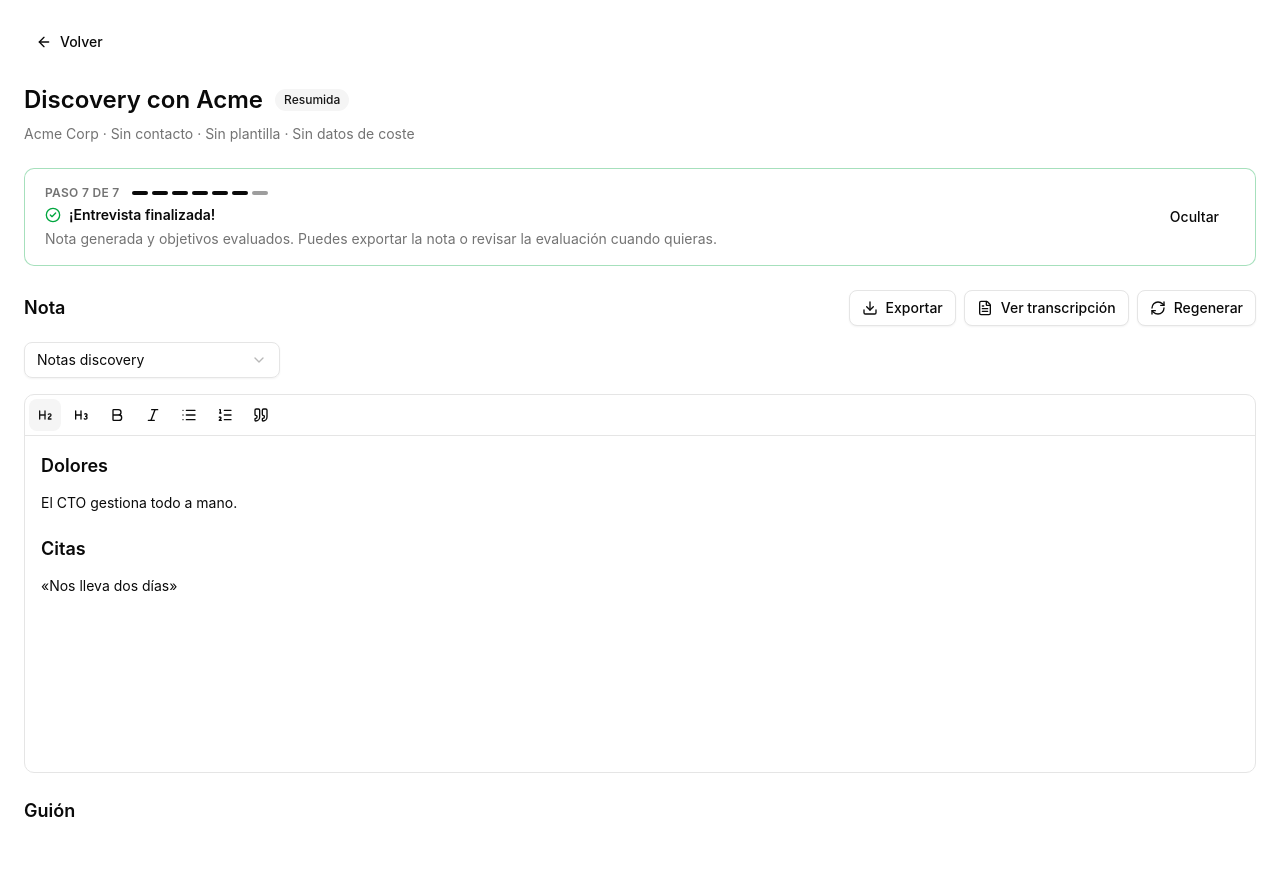
Test case: NoteSection › always-on editing (SPEC-029) › persists on Guardar, toasts "Nota guardada" and hides the bar keeping the editor mounted with the saved content
// Cambio real vía toolbar: el primer bloque (h2 Dolores) pasa a Encabezado 3
Click the button named "Encabezado 3".
click(81, 415)  # box [65,399,97,431]
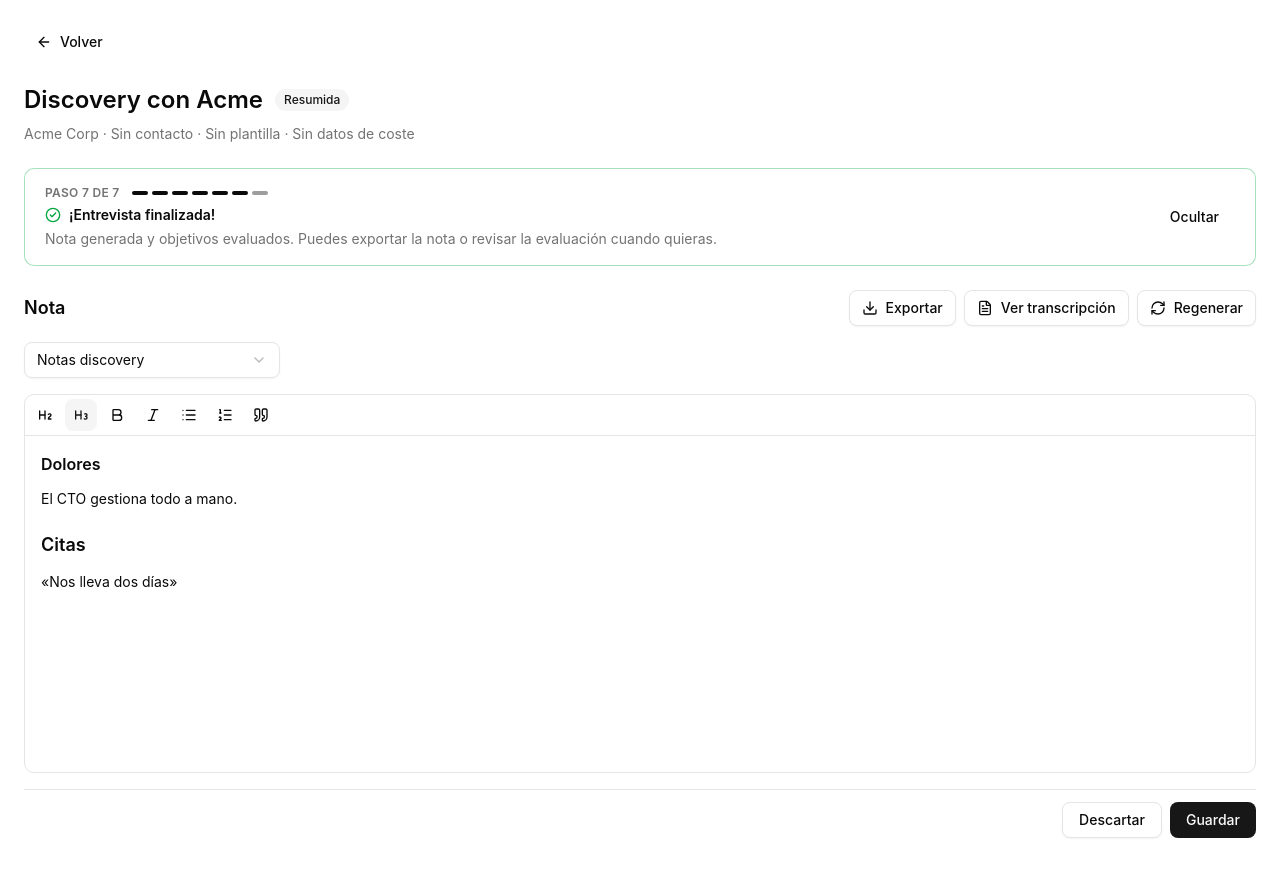
Click the button "Guardar".
click(1213, 820)  # box [1170,802,1256,838]
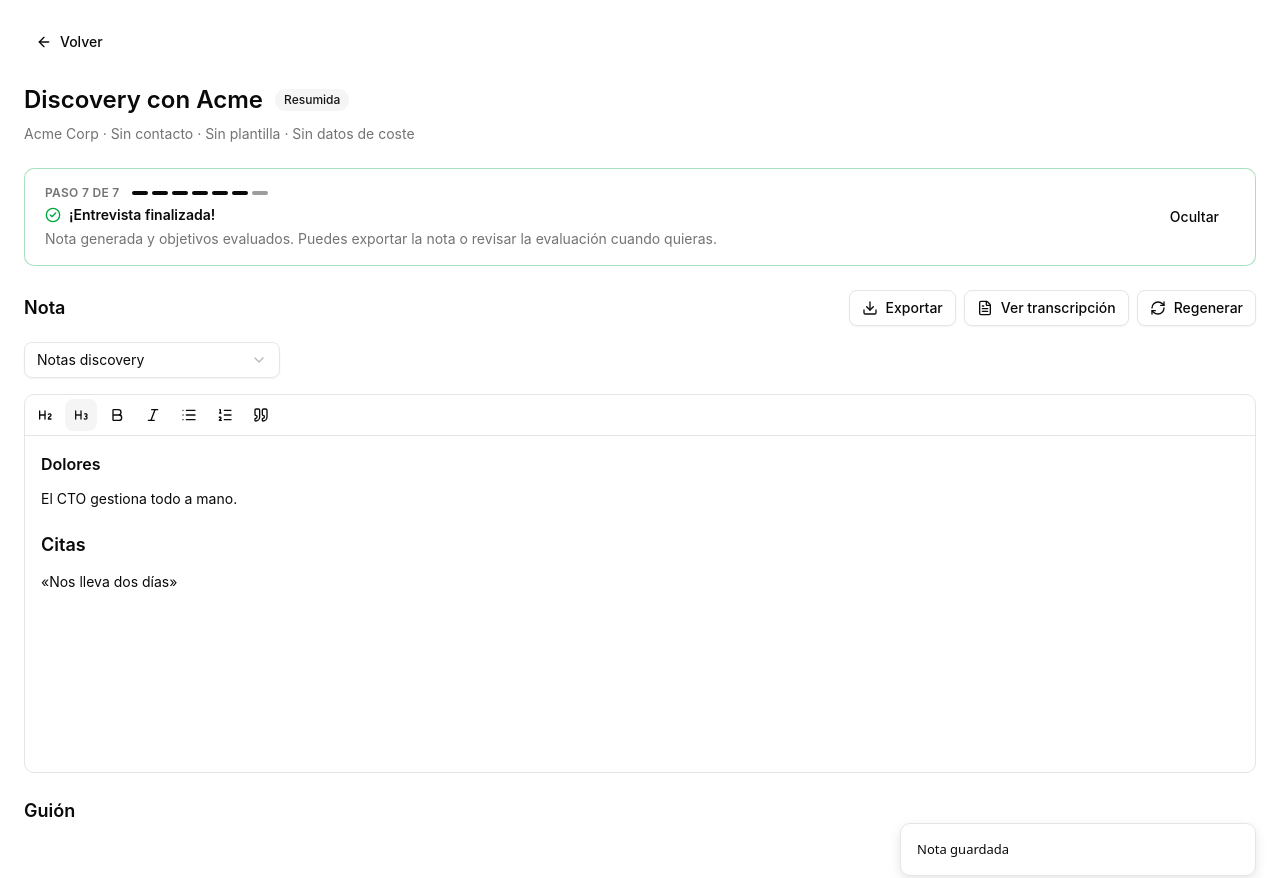
Expected: the heading "Dolores" is shown, [41,454,100,474]
Expected: the element with test id "note-editor-actions" is gone
